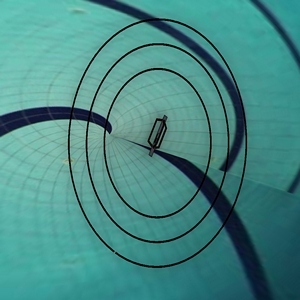circle: (65, 13, 257, 274)
submarine: (140, 111, 184, 166)
